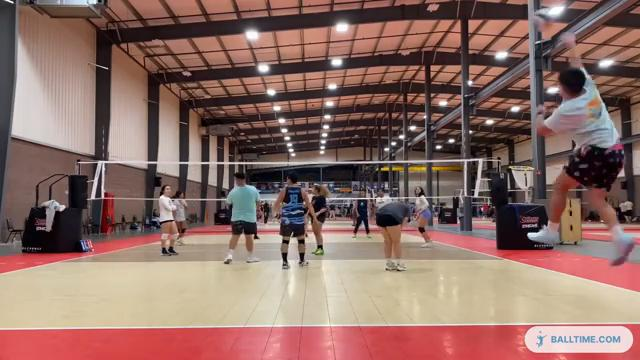Player: (274, 173, 314, 268), (224, 172, 259, 263), (376, 202, 411, 270), (158, 185, 179, 256), (311, 184, 329, 254), (414, 187, 431, 247), (352, 191, 370, 237), (172, 191, 187, 244), (375, 189, 391, 210)
Serve: (524, 27, 637, 271)
ball: (531, 6, 551, 30)
